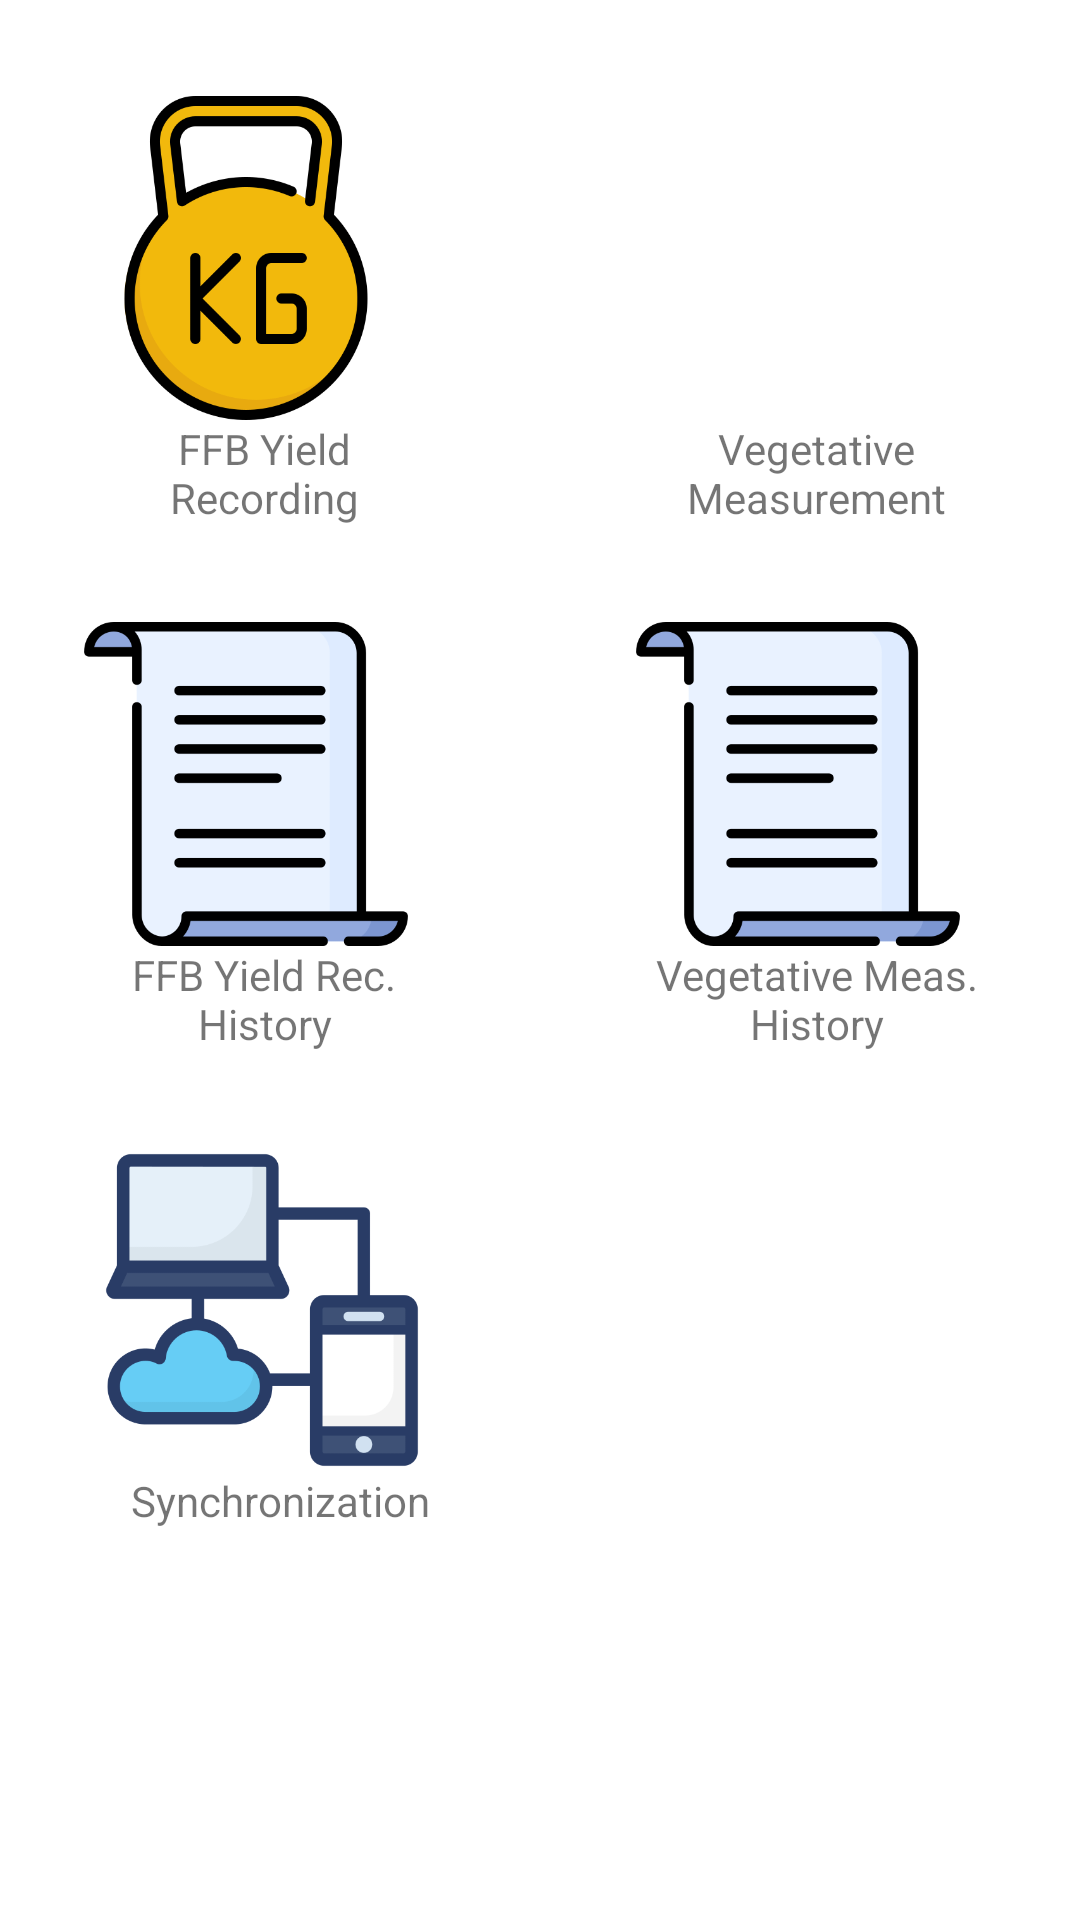

Icon click points for this 1080px x 1920px phone screenshot, format (x,y):
scroll: (246,784), (798,784)
weight tool: (246,258)
